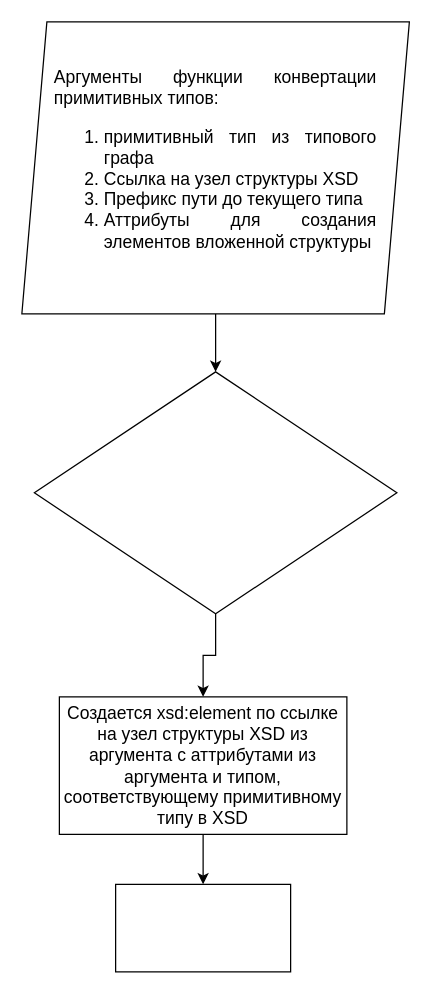
Image size: 431x994. Some labels were removed from this diagram. Each missing label, with the box of its shape:
Завершение обработки примитивного типа: (114, 883, 291, 972)
ссылка на узел структуры XSD из аргументов функцииотличается от корневого?: (33, 371, 397, 614)
